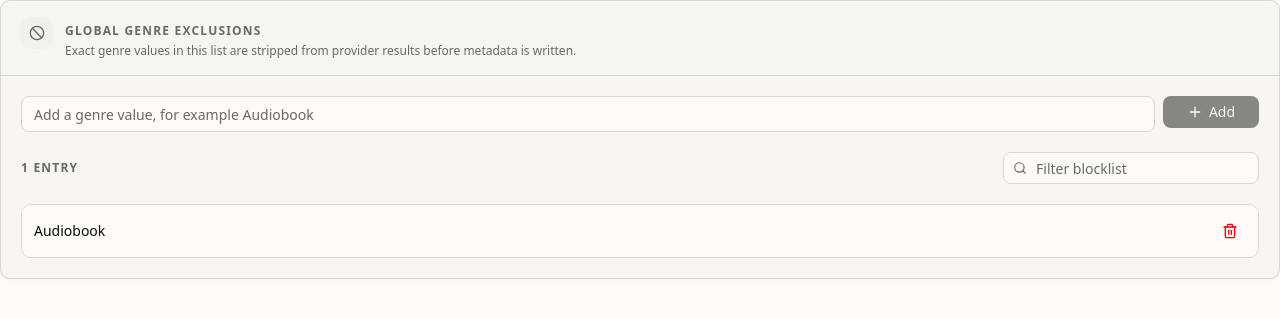
Test: MetadataGenreBlocklistSettings › does not submit duplicate genre values
This screenshot has width=1280, height=318.
Type "audiobook" into the field with id "genre-blocklist-entry" at (588, 114), box 21,96 -> 1155,132
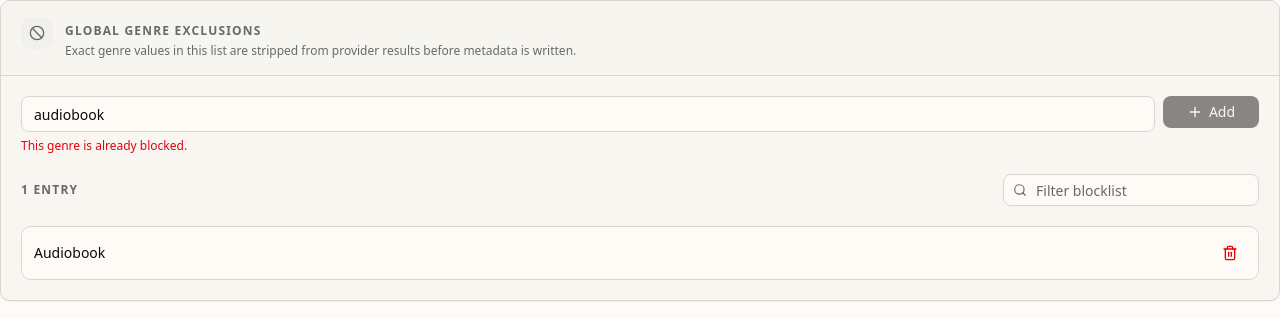
Expected: the button "Add" is disabled, 1163,96 -> 1259,128
Expected: the text "This genre is already blocked." is shown, 21,137 -> 187,154
